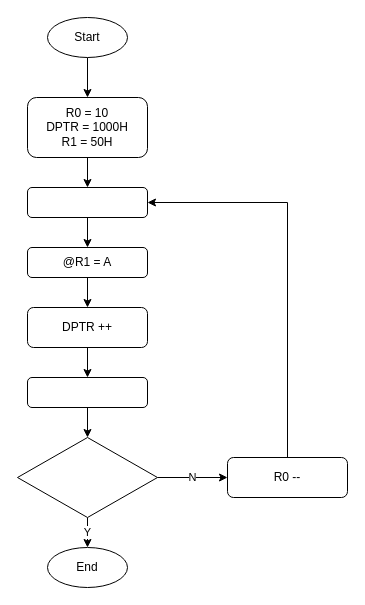
Some shapes in this 365 by 605 pixel diagram are drawn without their labels. The shapes that lost their labels are listed below. From the top down, each one's centre as x and y in pixels, then its label:
(87,202): A = @DPTR
(87,392): R1 ++
(87,477): R0 == 0?
